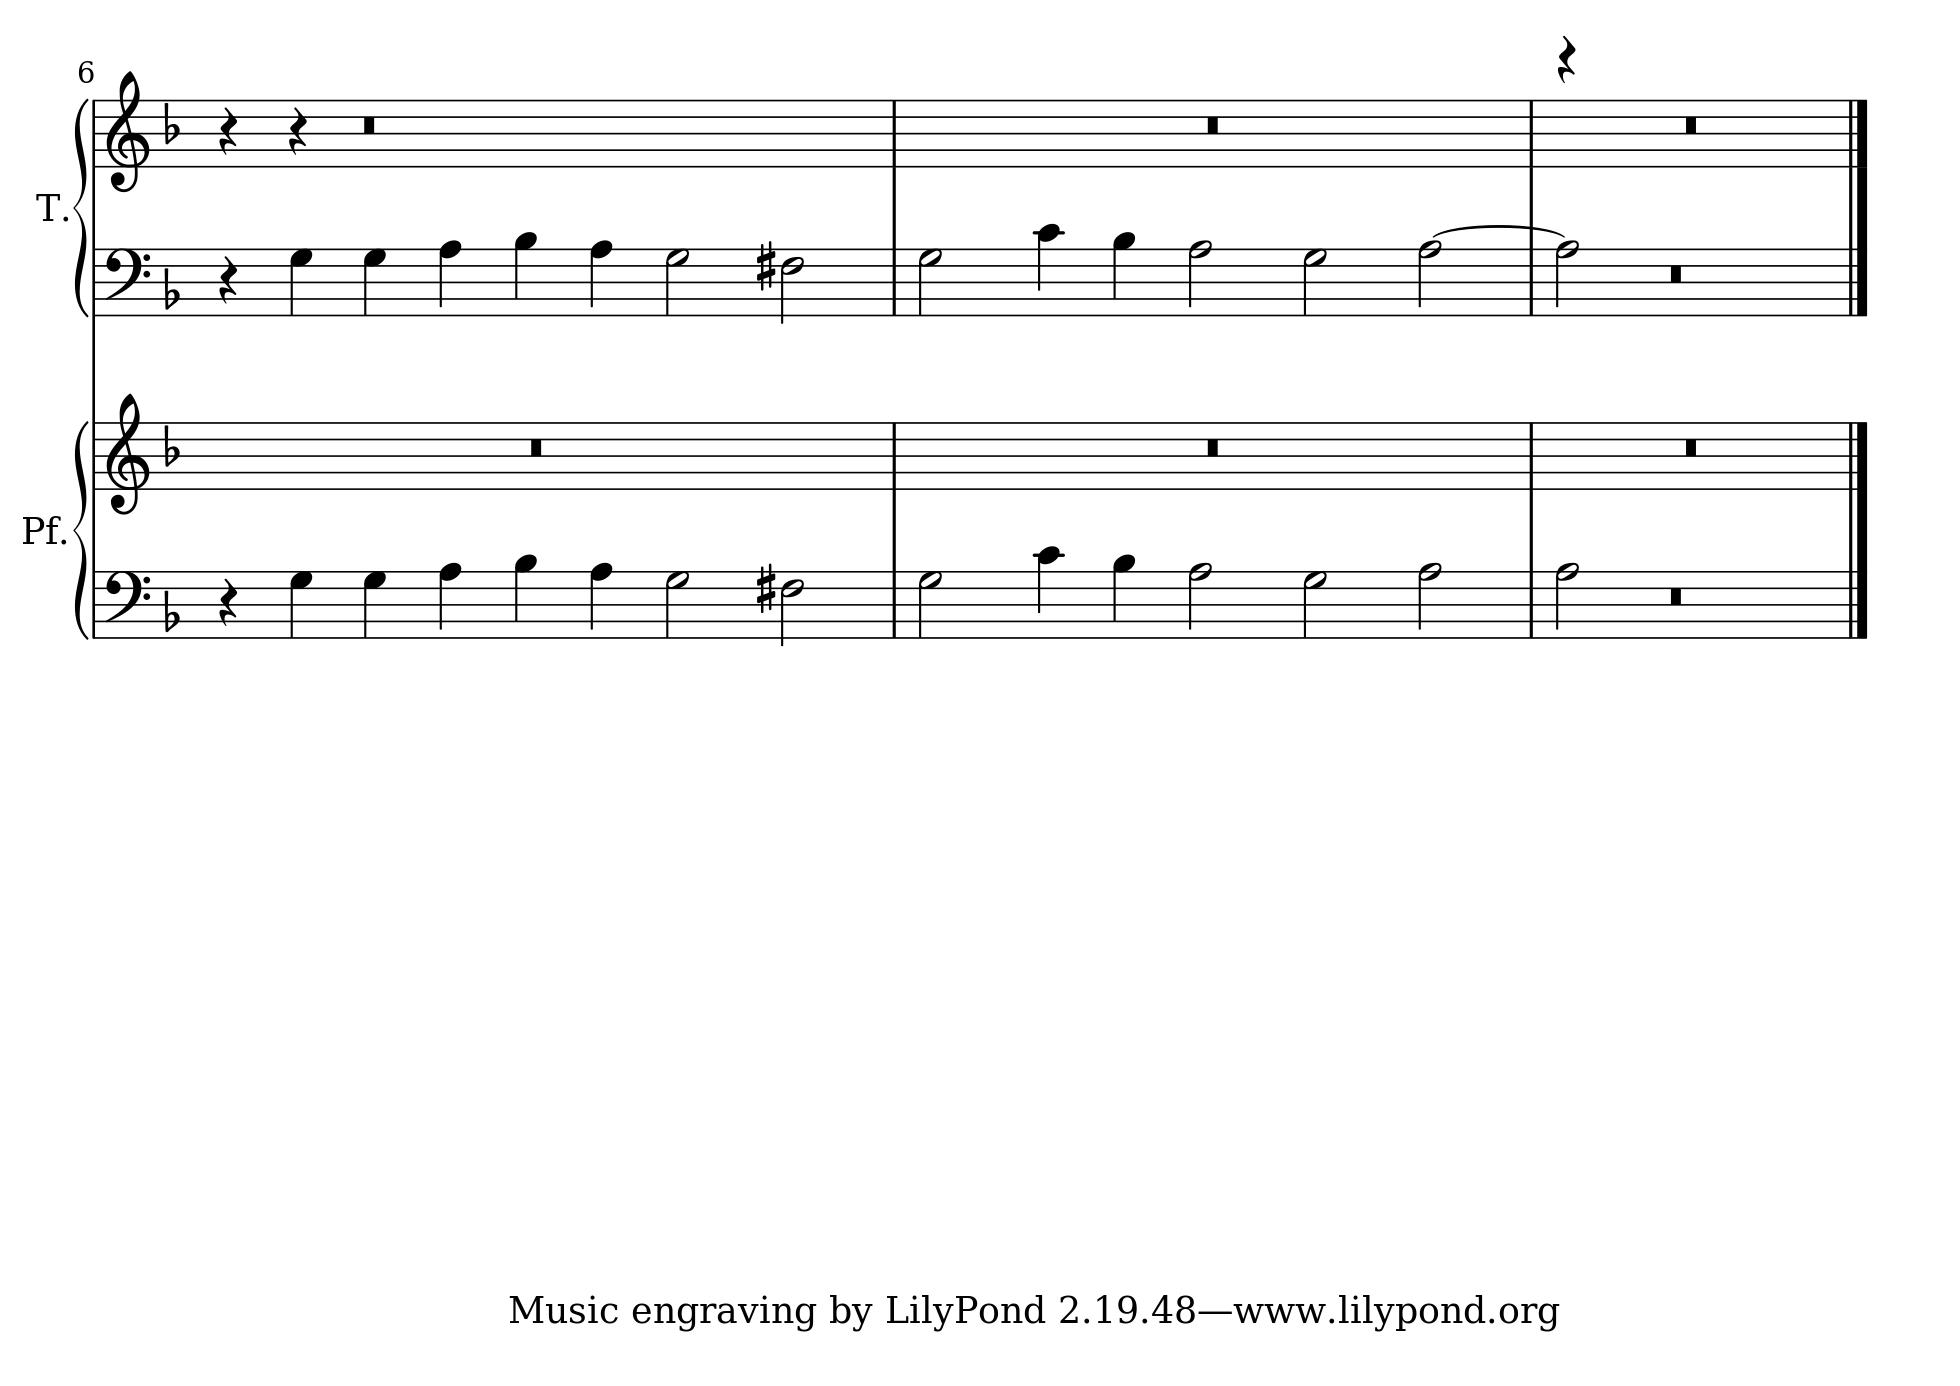2_6: (778, 568, 805, 649), (778, 247, 805, 325)
2_7: (916, 246, 943, 318), (1302, 568, 1329, 640), (1302, 246, 1329, 316), (916, 568, 943, 639), (664, 246, 690, 316), (664, 568, 690, 639)
2_8: (1186, 559, 1216, 640), (1188, 238, 1216, 319), (1554, 238, 1582, 319), (1554, 559, 1581, 640), (1417, 561, 1444, 640), (1417, 238, 1443, 318)
4_10: (1035, 220, 1062, 316), (1035, 544, 1062, 639)
4_7: (286, 568, 315, 640), (286, 246, 315, 316), (361, 246, 388, 318), (361, 568, 388, 639)
4_8: (436, 237, 463, 318), (436, 559, 463, 640), (588, 559, 615, 640), (588, 238, 615, 318)
4_9: (1110, 553, 1138, 640), (1111, 229, 1138, 318), (513, 550, 538, 640), (513, 229, 538, 316)
6: (76, 57, 94, 84)
Brace: (70, 97, 90, 316), (72, 415, 90, 640)
Fclef: (103, 246, 153, 316), (103, 568, 151, 640)
Final_barline: (1842, 97, 1872, 166), (1842, 421, 1872, 487), (1842, 247, 1870, 316), (1842, 570, 1869, 637)
Flat: (160, 99, 181, 148), (162, 421, 181, 468), (162, 588, 181, 634), (162, 265, 181, 310)
Gclef: (103, 69, 153, 193), (103, 391, 151, 516)
Rests4: (216, 576, 240, 630), (286, 105, 309, 156), (217, 253, 238, 306), (1557, 33, 1578, 84), (217, 105, 238, 156)
Sharp: (754, 238, 777, 292), (754, 562, 775, 616)
Single_barline: (1521, 99, 1542, 166), (1521, 421, 1542, 489), (1522, 247, 1543, 313), (883, 421, 904, 487), (883, 99, 903, 166), (885, 247, 904, 313), (886, 570, 904, 637), (1524, 571, 1540, 636), (87, 421, 102, 489), (88, 99, 102, 166), (88, 247, 102, 315), (88, 571, 102, 637)
Slur: (1428, 226, 1569, 240)
